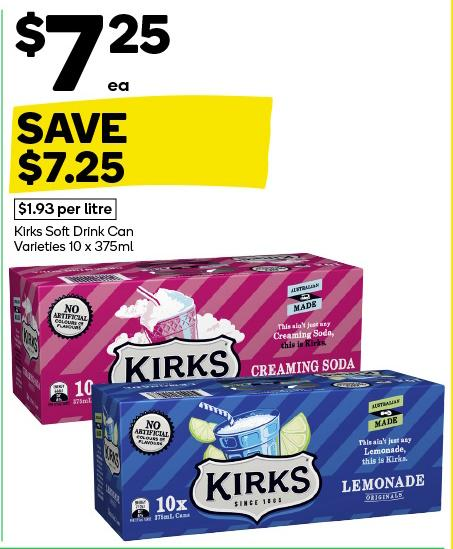description_block: (11, 224, 140, 254)
price_main: (9, 4, 188, 95)
product_image_block: (6, 250, 448, 545)
promo_text_block: (8, 97, 281, 190)
unit_price_block: (11, 194, 122, 223)
